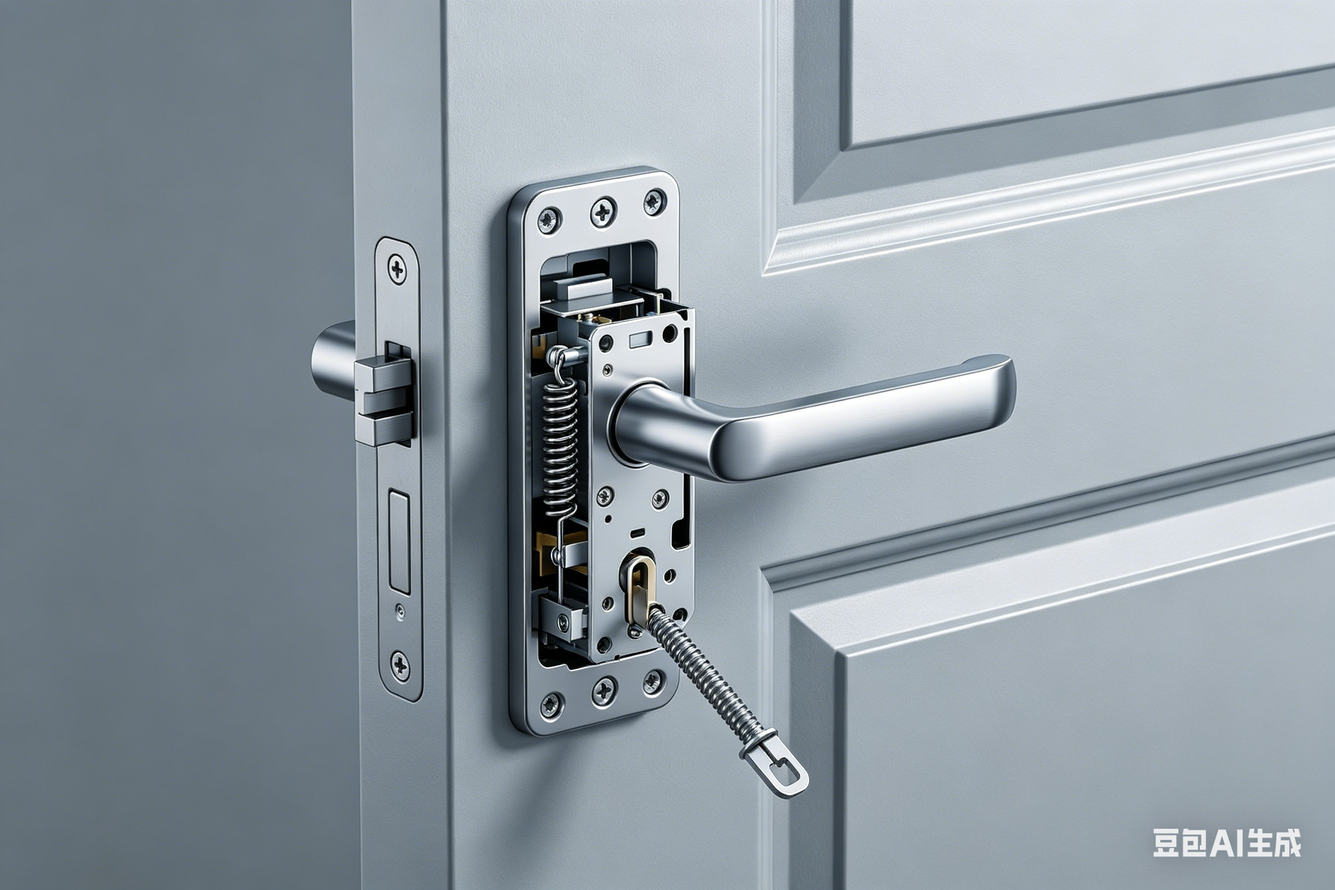BadLock: (609, 574, 810, 802)
